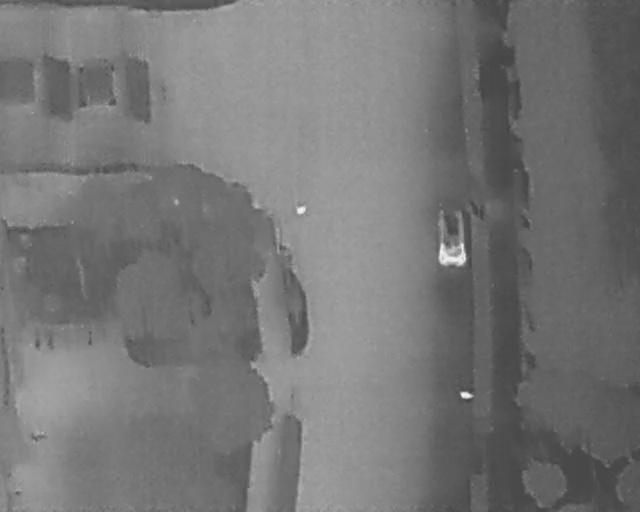Car: (435, 208, 468, 268)
